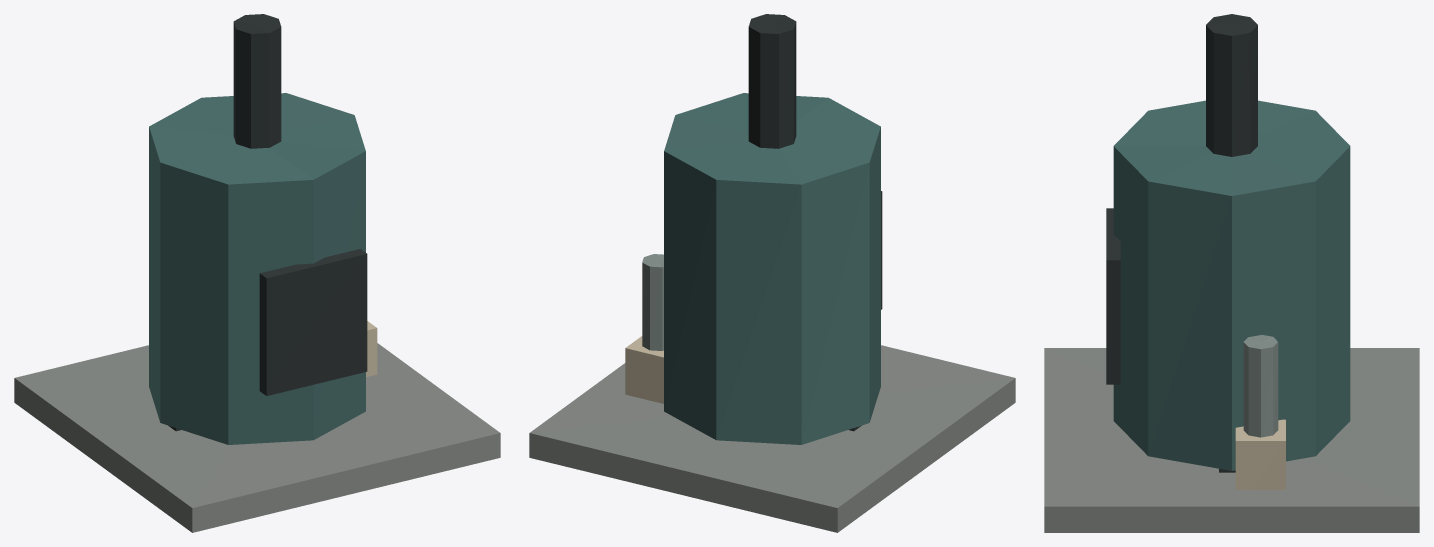
File: Biochar-Kiln.glb
3 renders of one model, left to right at view 1: azimuth 30°, elevation 25°; view 2: azimuth 150°, elevation 25°; view 3: azimuth 270°, elevation 25°, orthographic. The views are drawn at different scales.
Parts seen in each view (by area): view 1: biochar-kiln-static-kiln-teal, biochar-kiln-static-kiln-stone, biochar-kiln-static-kiln-iron, biochar-kiln-static-kiln-cream; view 2: biochar-kiln-static-kiln-teal, biochar-kiln-static-kiln-stone, biochar-kiln-static-kiln-iron, biochar-kiln-static-kiln-galv, biochar-kiln-static-kiln-cream; view 3: biochar-kiln-static-kiln-teal, biochar-kiln-static-kiln-stone, biochar-kiln-static-kiln-iron, biochar-kiln-static-kiln-galv, biochar-kiln-static-kiln-cream.
Part boxes in pixels (left/top/right/bottom): biochar-kiln-static-kiln-teal: left=149, top=93, right=365, bottom=444; biochar-kiln-static-kiln-stone: left=14, top=343, right=500, bottom=532; biochar-kiln-static-kiln-iron: left=168, top=14, right=367, bottom=431; biochar-kiln-static-kiln-cream: left=366, top=321, right=377, bottom=377; biochar-kiln-static-kiln-teal: left=664, top=93, right=880, bottom=444; biochar-kiln-static-kiln-stone: left=529, top=345, right=1015, bottom=532; biochar-kiln-static-kiln-iron: left=748, top=14, right=882, bottom=431; biochar-kiln-static-kiln-galv: left=642, top=254, right=663, bottom=350; biochar-kiln-static-kiln-cream: left=625, top=336, right=663, bottom=403; biochar-kiln-static-kiln-teal: left=1113, top=100, right=1350, bottom=470; biochar-kiln-static-kiln-stone: left=1044, top=348, right=1419, bottom=532; biochar-kiln-static-kiln-iron: left=1106, top=14, right=1257, bottom=472; biochar-kiln-static-kiln-galv: left=1243, top=335, right=1278, bottom=437; biochar-kiln-static-kiln-cream: left=1235, top=419, right=1285, bottom=489.
Size of the model in its own units: 2.6 by 3.28 by 2.6.
